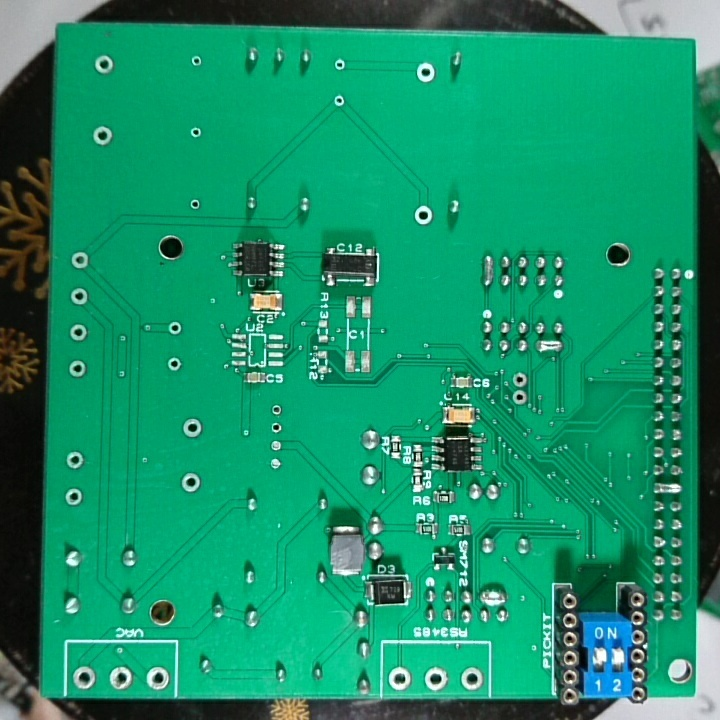F: (106, 663, 135, 695), (421, 665, 450, 694), (458, 664, 486, 694), (144, 663, 171, 694), (386, 665, 414, 694), (71, 664, 98, 692), (91, 52, 117, 79), (91, 123, 117, 149), (179, 469, 203, 496), (412, 204, 437, 229), (414, 60, 439, 85), (62, 485, 85, 511), (68, 249, 92, 273), (180, 416, 205, 439), (62, 449, 86, 472), (67, 322, 91, 344), (68, 286, 91, 308), (66, 358, 87, 380), (510, 387, 531, 409), (266, 452, 284, 475), (510, 369, 529, 389), (268, 418, 287, 437), (188, 123, 205, 144), (331, 56, 349, 75), (330, 92, 348, 111), (166, 320, 185, 338), (165, 355, 182, 375), (186, 197, 205, 214), (189, 52, 205, 71), (268, 402, 287, 418), (268, 437, 285, 454)
P: (477, 586, 509, 608), (651, 478, 685, 496), (481, 251, 497, 289), (534, 336, 565, 355)
